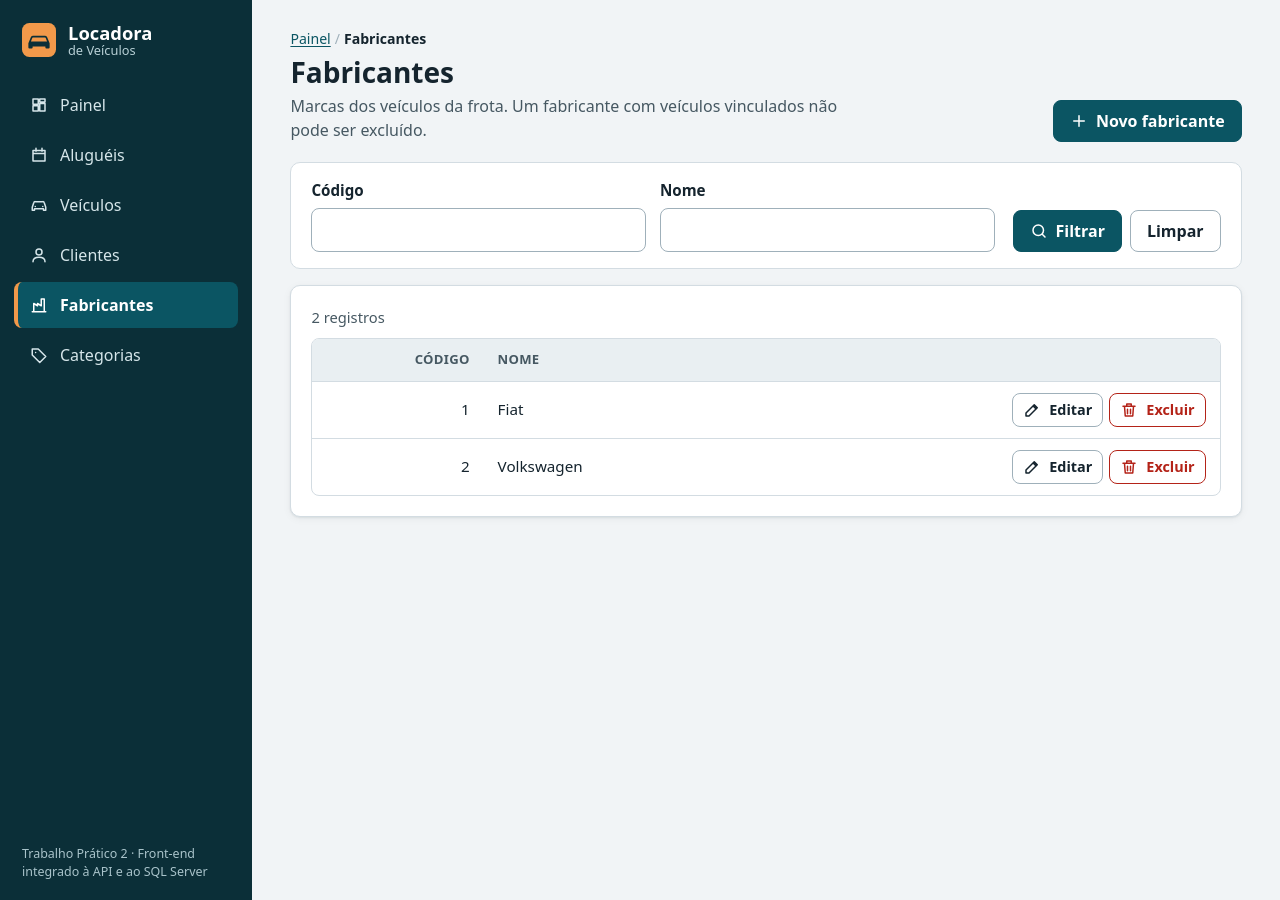
Test: Fabricantes › confirma antes de excluir, exclui e atualiza a lista
The image size is (1280, 900).
Click the button with aria-label "Excluir fabricante Fiat" at (1157, 410), box [1109,393,1206,427]
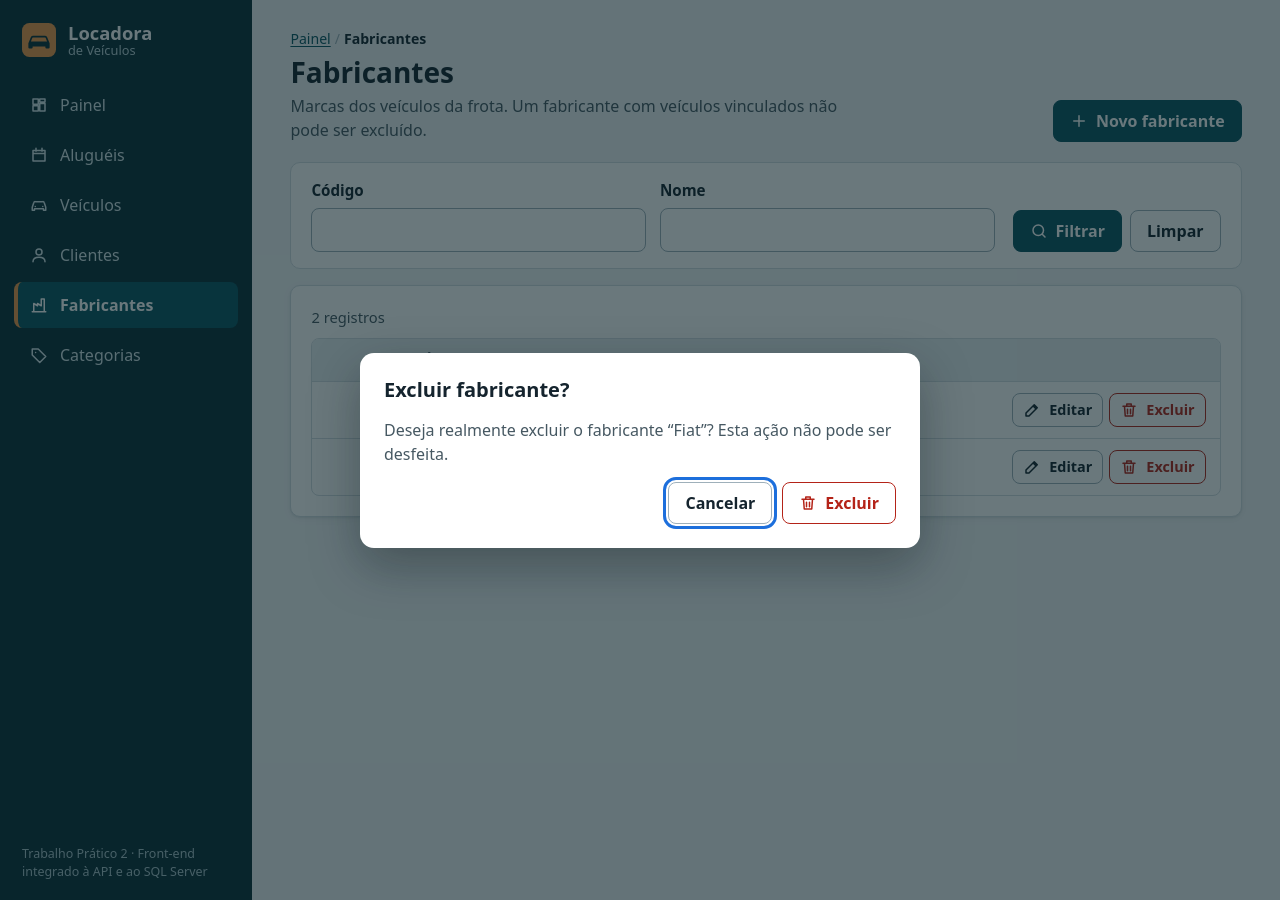
Expected: the dialog "Excluir fabricante?" shows "Deseja realmente excluir o fabricante “Fiat”?", [384,418,891,464]
Click the button "Excluir" at (839, 502), box [782,482,896,524]
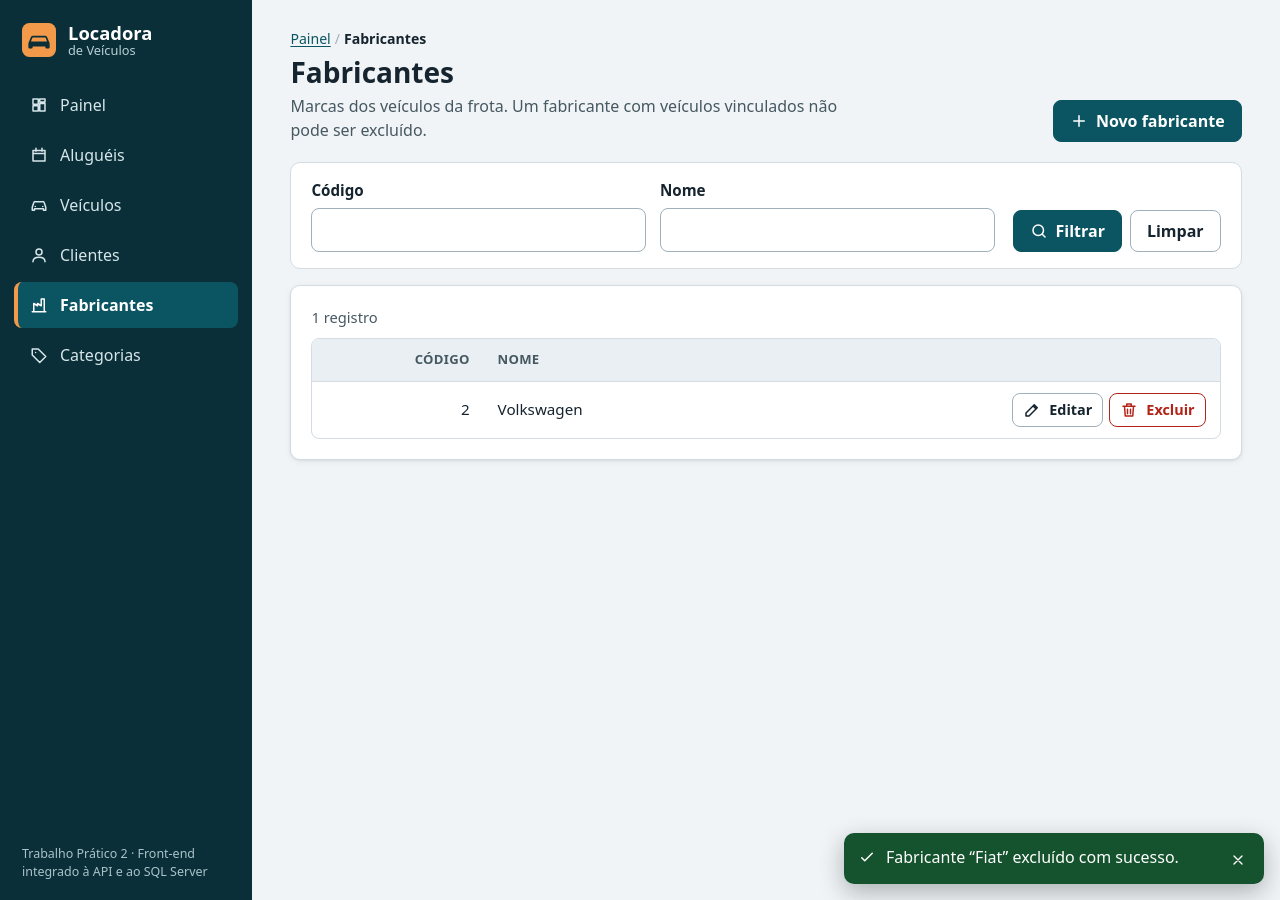
Expected: the text "Fabricante “Fiat” excluído com sucesso." is shown, [886,845,1216,869]
